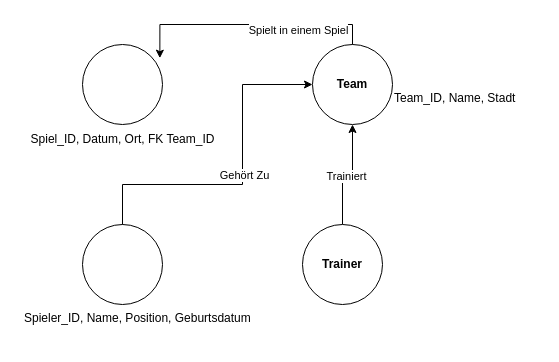
The diagram is 559 pixels wide and 362 high, and some of its shapes have lost their labels. The shapes that lost their labels are listed below. From the top down, each one's centre as x and y in pixels, then its label:
the point at 122,84: Spiel
the point at 122,264: Spieler
